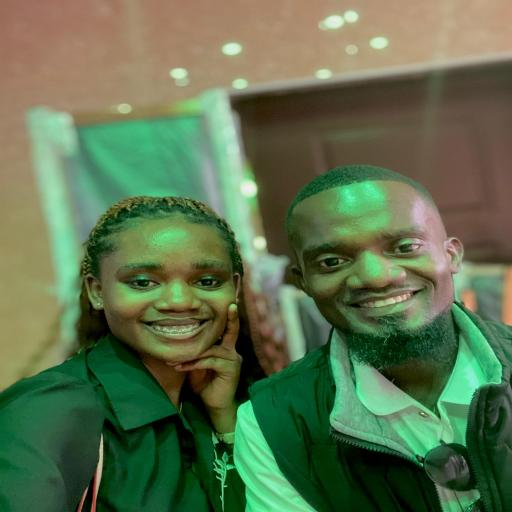MATTHIEU: (284, 164, 475, 362)
